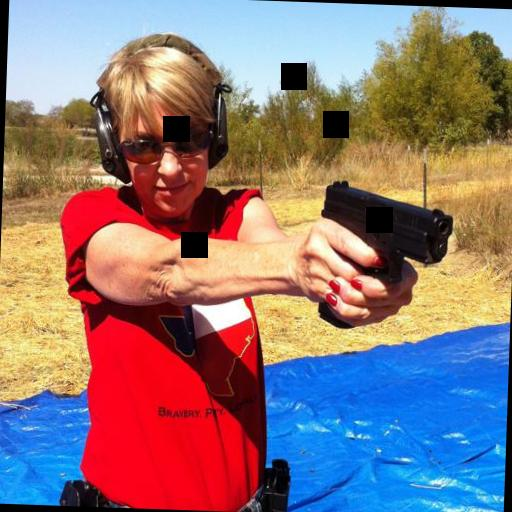Handgun: (310, 177, 456, 330)
